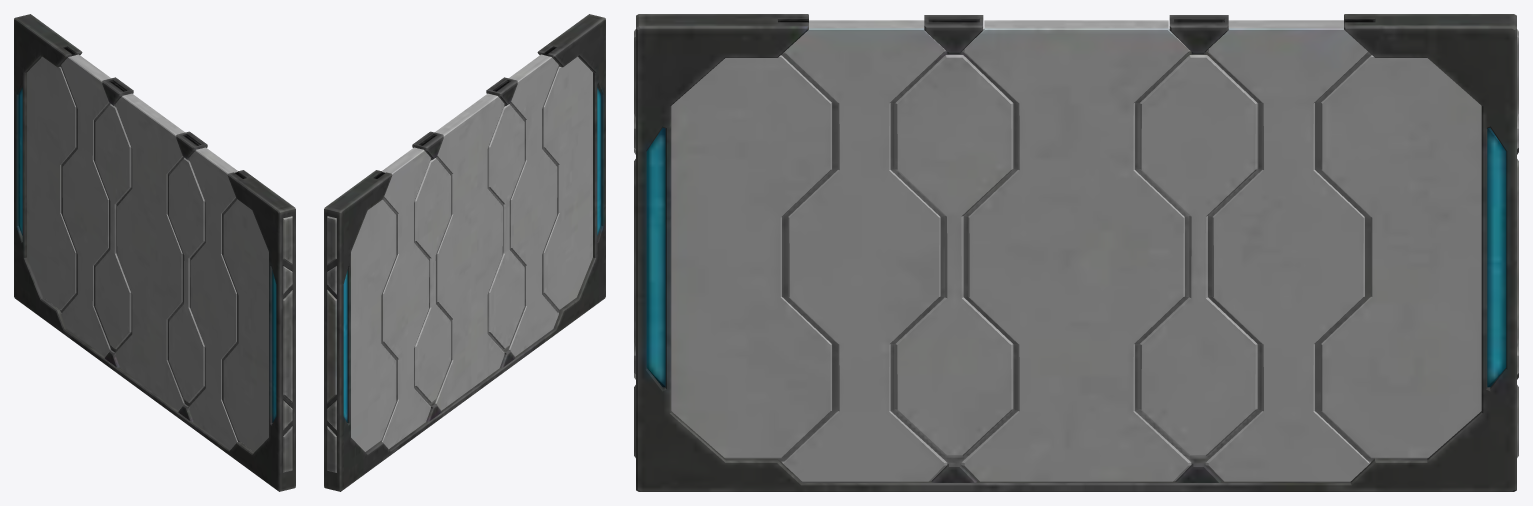
The model's file is SM_WallDiagonal_Ancient_cf71c7.glb.
The picture shows the model from 3 angles, left to right: view 1: azimuth 30°, elevation 25°; view 2: azimuth 150°, elevation 25°; view 3: azimuth 270°, elevation 25°; orthographic projection. The views are drawn at different scales.
Size of the model in its own units: 0.2106 by 3.29 by 5.66.
Materials: 1 (1 with a texture image).
